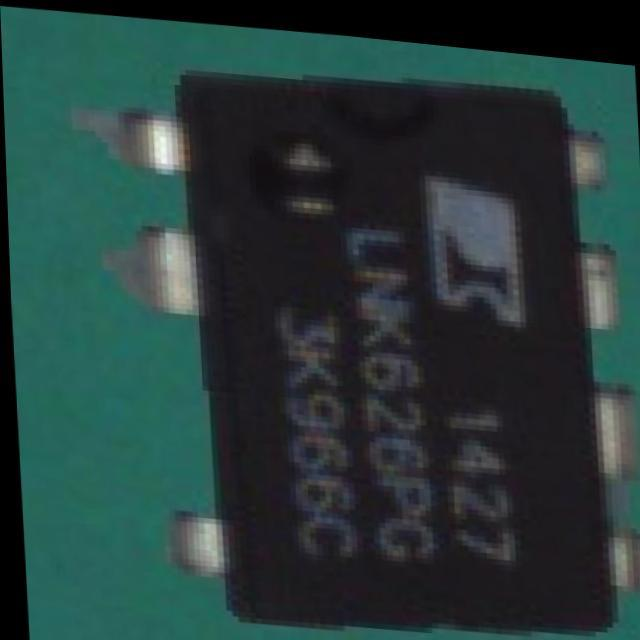IC: (106, 9, 639, 640)
